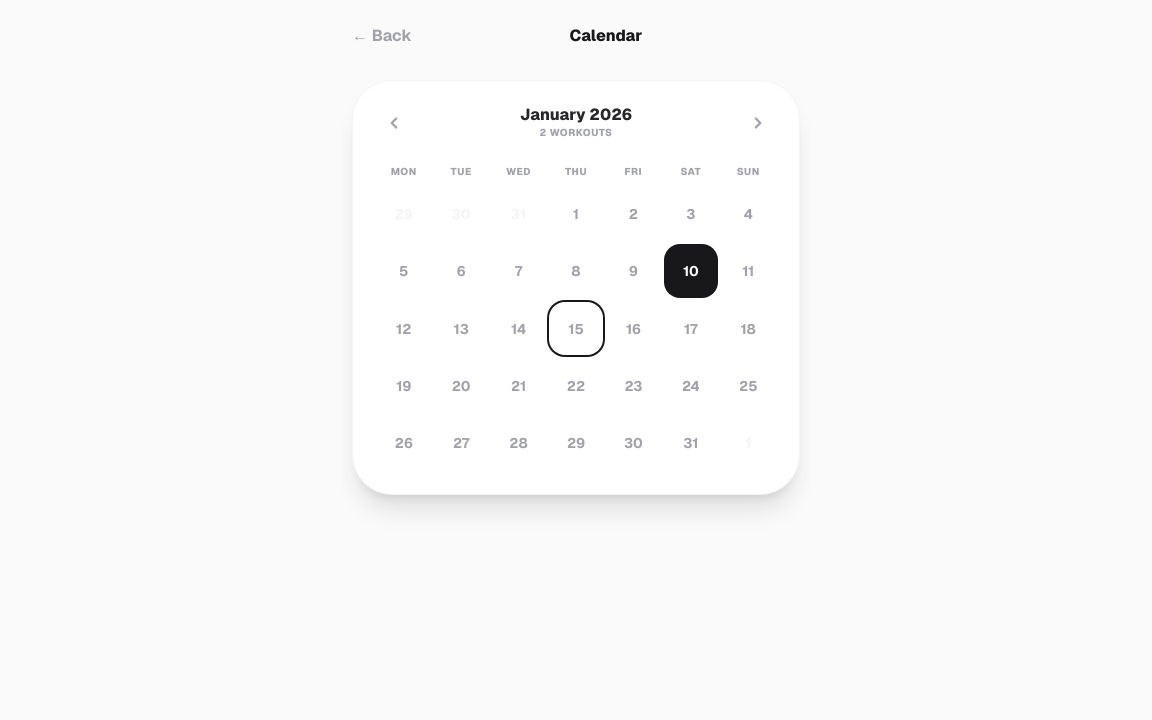
Test: CalendarView › opens the picker when clicking a day with several sessions
This screenshot has width=1152, height=720.
Click the button "10".
click(691, 271)  # box 664,244 -> 718,298
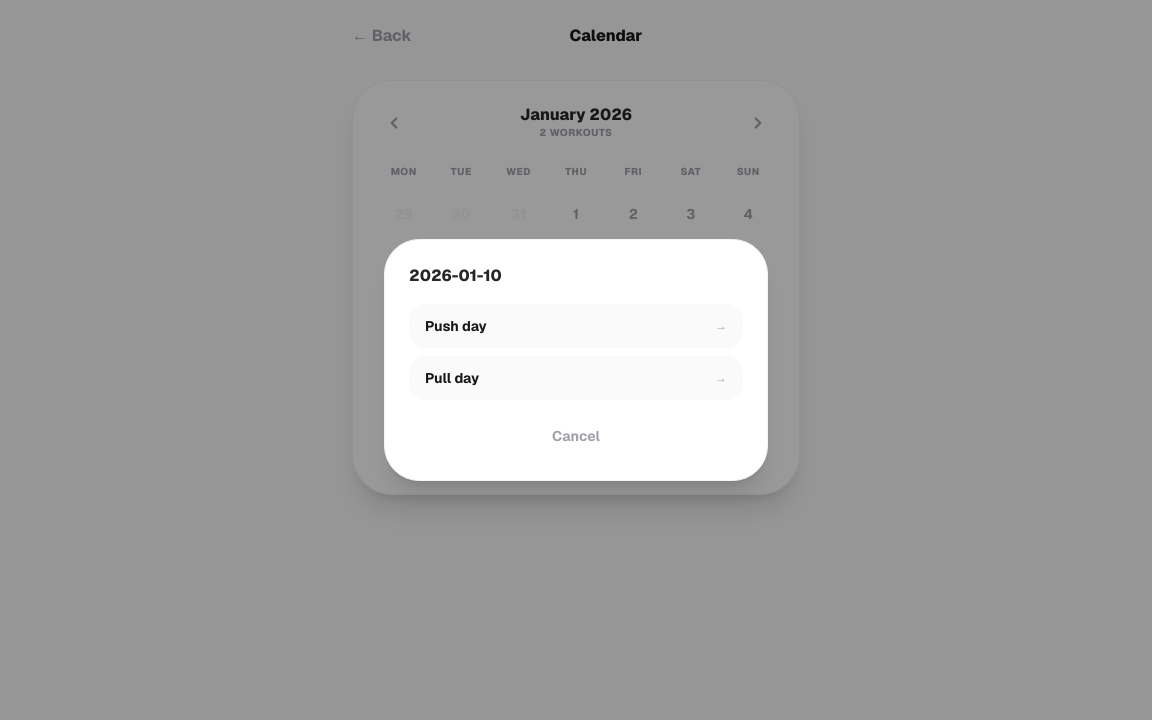
Expected: the heading "2026-01-10" is shown, 409,265 -> 502,286
